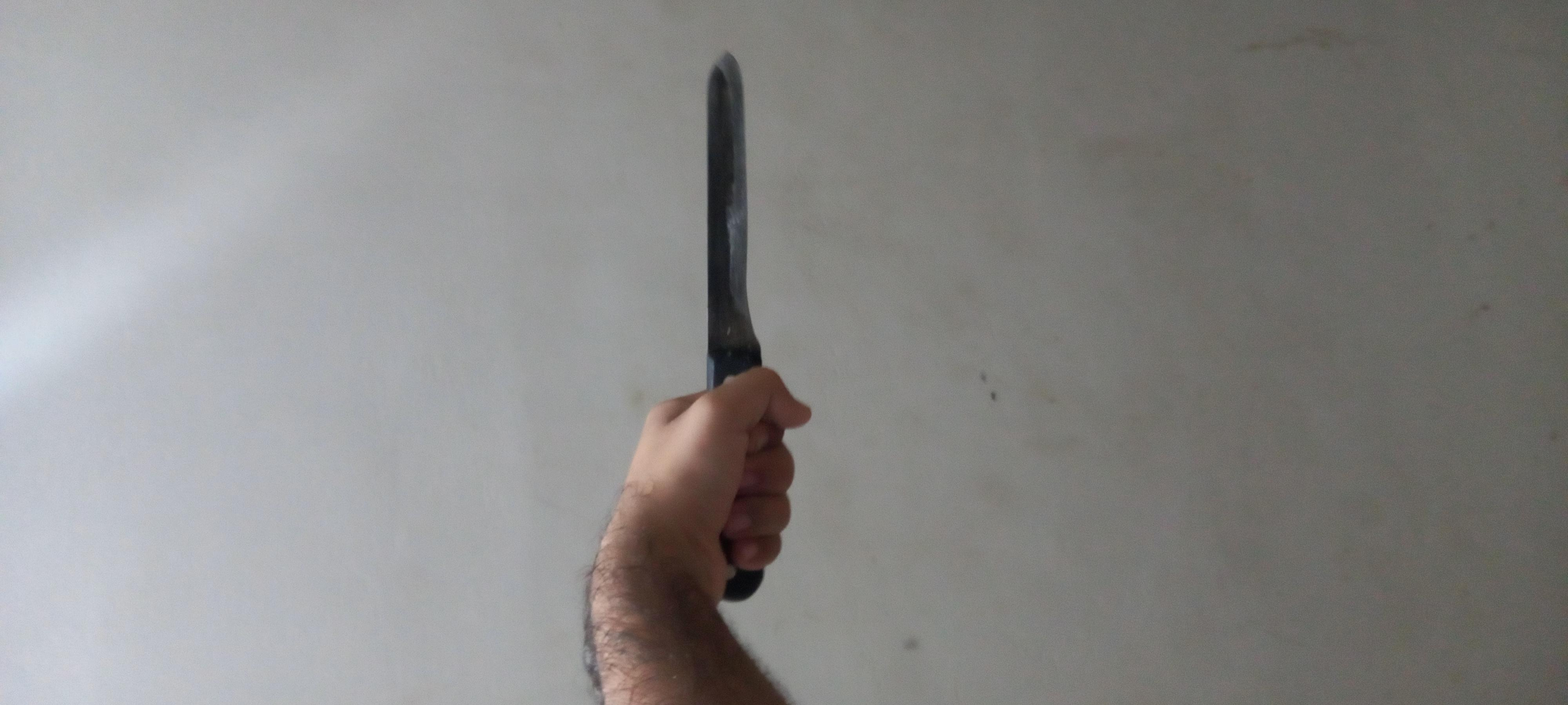knives: (198, 309, 1456, 364)
